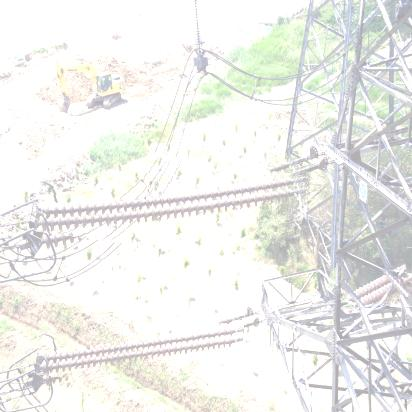insulator: (37, 150, 307, 260), (37, 308, 244, 394), (343, 267, 412, 310)
